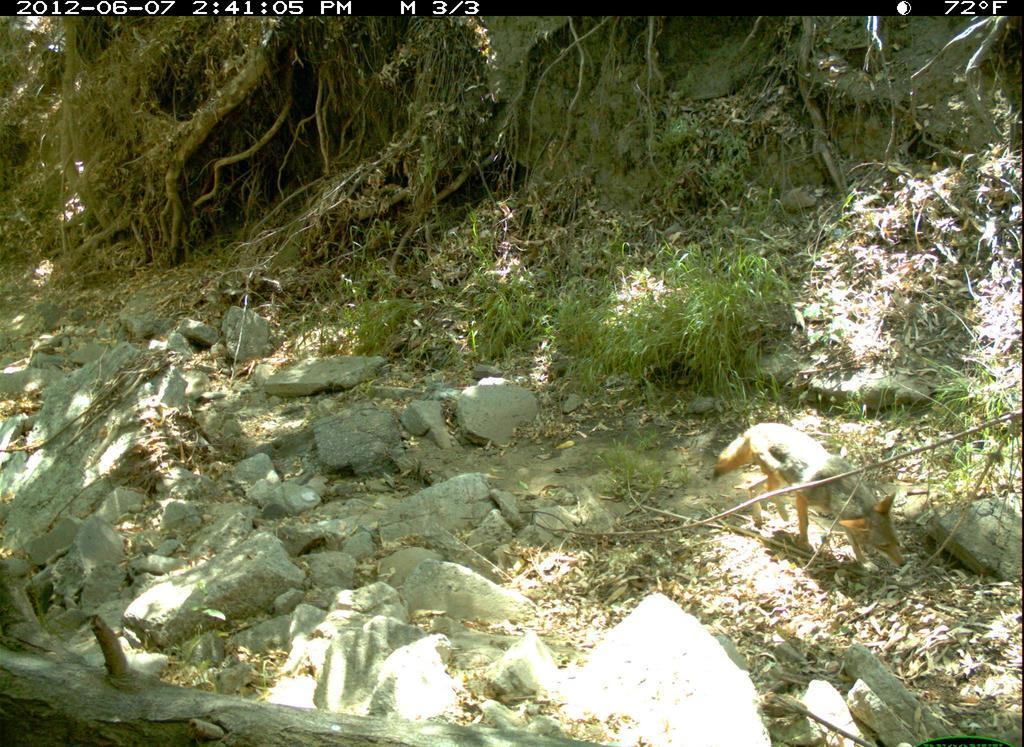coyote: (711, 417, 916, 584)
